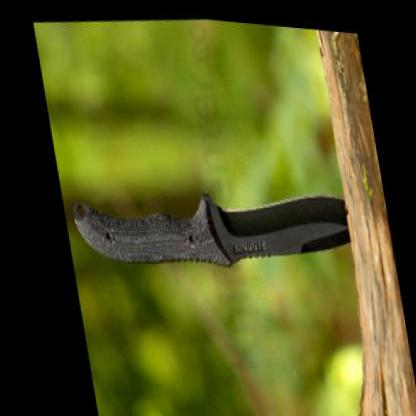knife: (59, 156, 356, 290)
